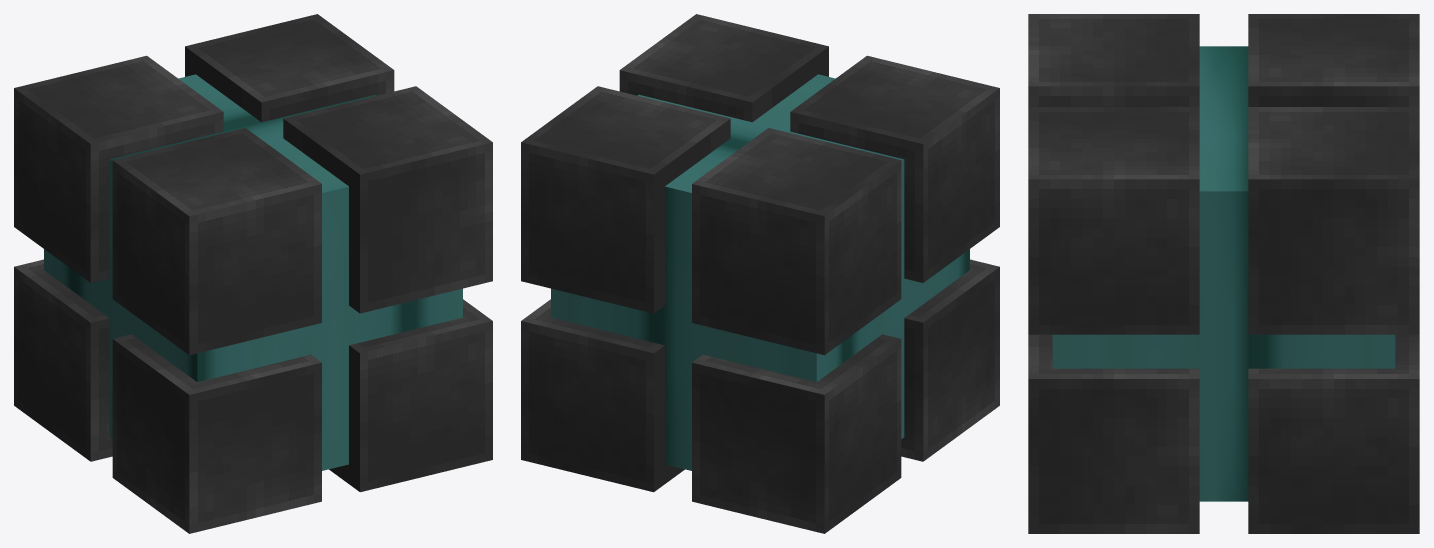
File: repulsor.obj
3 renders of one model, left to right at view 1: azimuth 30°, elevation 25°; view 2: azimuth 150°, elevation 25°; view 3: azimuth 270°, elevation 25°, orthographic. The views are drawn at different scales.
Bounding box in the file's own units: 1 × 1 × 1.
